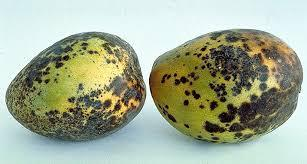mango: (148, 27, 303, 144), (4, 30, 146, 142)
